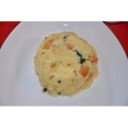venpongal: (36, 36, 100, 95)
